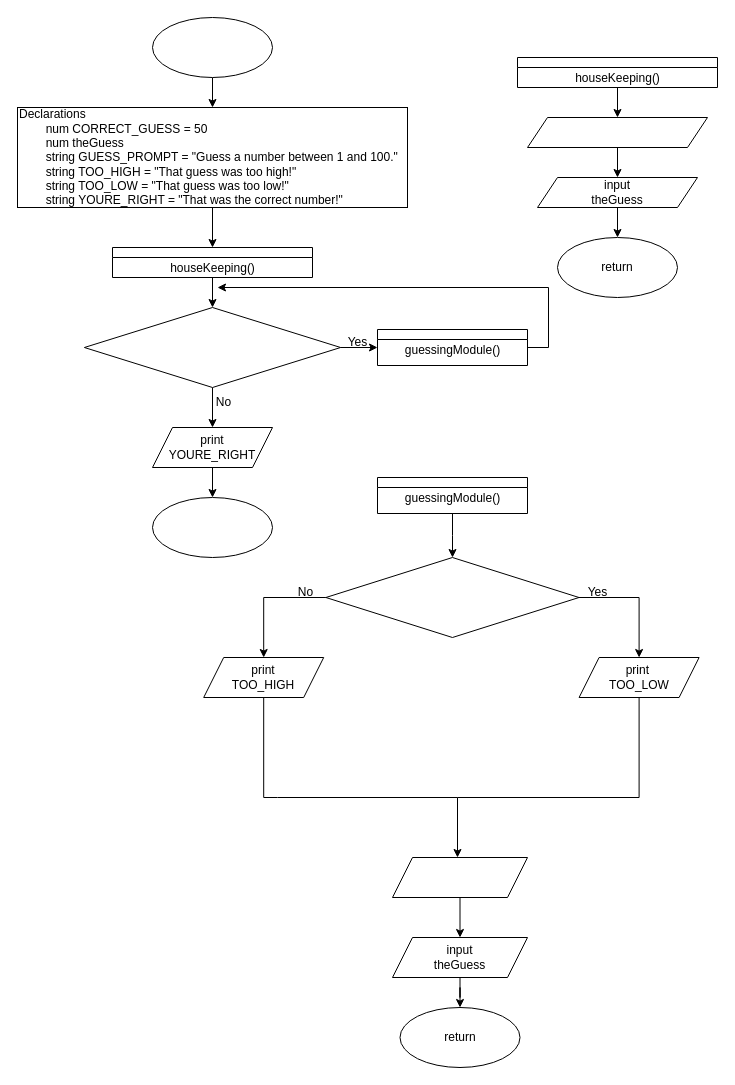
The diagram is 735 pixels wide and 1085 high, and some of its shapes have lost their labels. The centre of each missing label's shape, as x and y in pixels:
begin: the point at 212,47
end: the point at 212,527
is theGuess not = CORRECT_GUESS?: the point at 212,347
is theGuess not > CORRECT_GUESS?: the point at 452,597
print GUESS_PROMPT: the point at 617,132
print GUESS_PROMT: the point at 460,877
